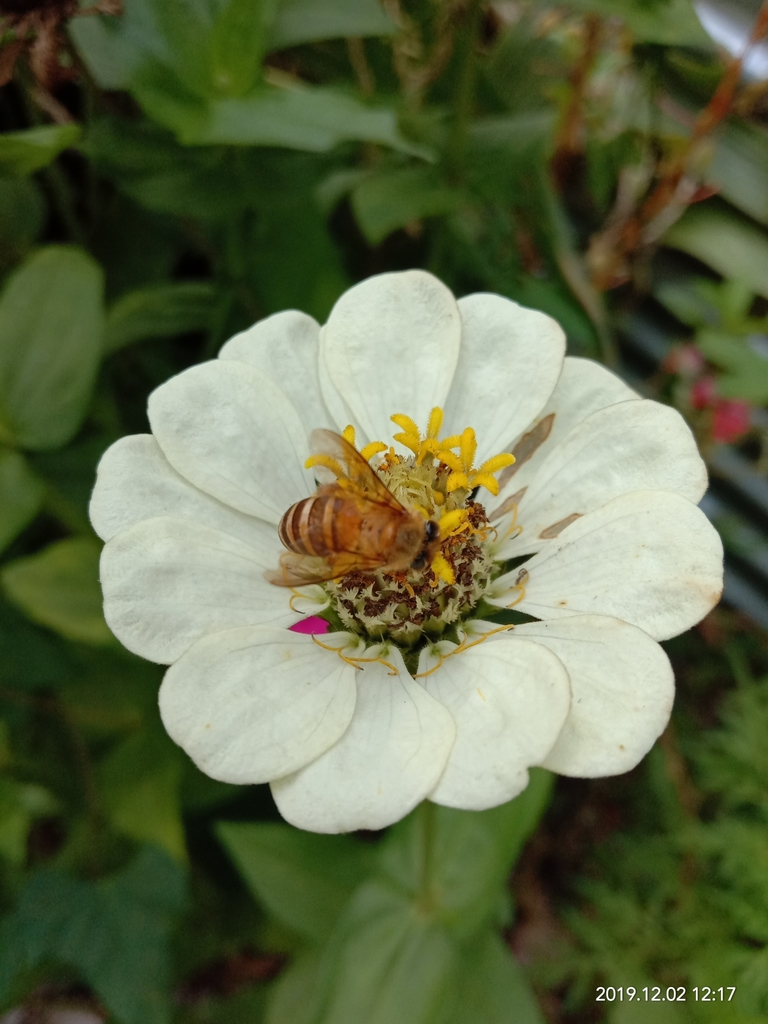not_bumblebee: (262, 428, 440, 591)
